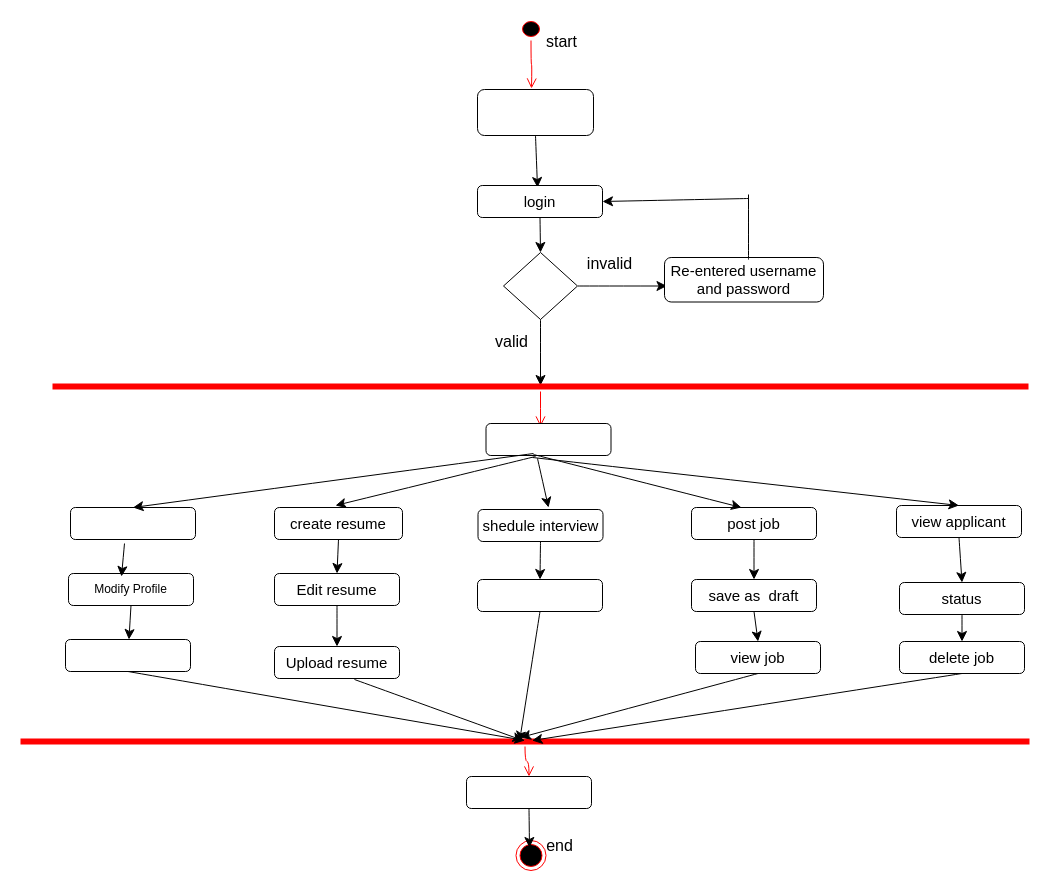
The diagram is 1049 pixels wide and 888 high, and some of its shapes have lost their labels. Each missing label, with the centre of its shape:
"Create Profile" belongs at (x=133, y=523).
"Delete Profile" belongs at (x=127, y=655).
"Get feedback" belongs at (x=539, y=595).
"logout" belongs at (x=529, y=792).
"Recruiter" belongs at (x=548, y=439).
"Recruiter is registered" belongs at (x=535, y=112).
